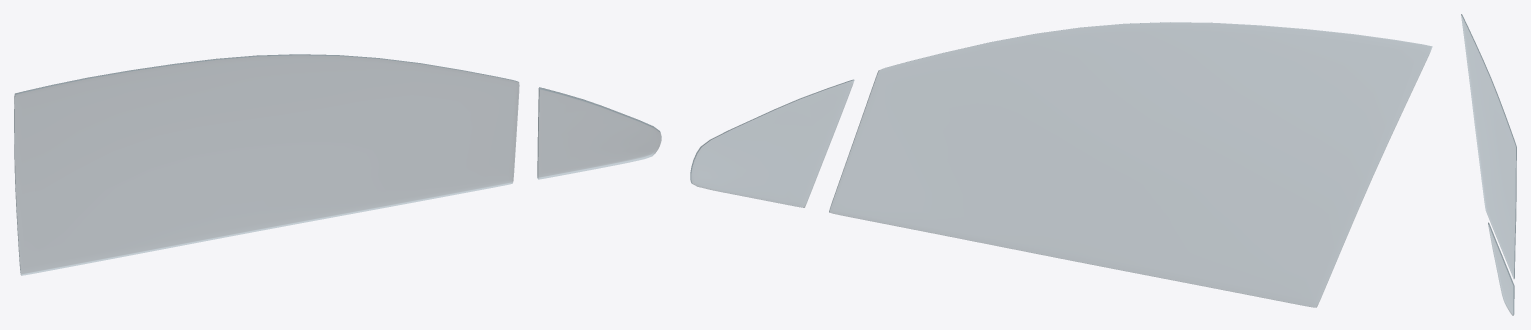
3 renders of one model, left to right at view 1: azimuth 30°, elevation 25°; view 2: azimuth 150°, elevation 25°; view 3: azimuth 270°, elevation 25°, orthographic. The views are drawn at different scales.
Visible parts, largest first — view 1: SM_LincolnMKZ_Door_FL_Glass_Ext1; view 2: SM_LincolnMKZ_Door_FL_Glass_Ext1; view 3: SM_LincolnMKZ_Door_FL_Glass_Ext1.
Boxes of the visible parts, x1,y1,x2,y2 form: SM_LincolnMKZ_Door_FL_Glass_Ext1: (14,54,661,275); SM_LincolnMKZ_Door_FL_Glass_Ext1: (690,22,1432,307); SM_LincolnMKZ_Door_FL_Glass_Ext1: (1461,14,1516,315).
Size of the model in its own units: 1.11 by 0.412 by 0.1552.
